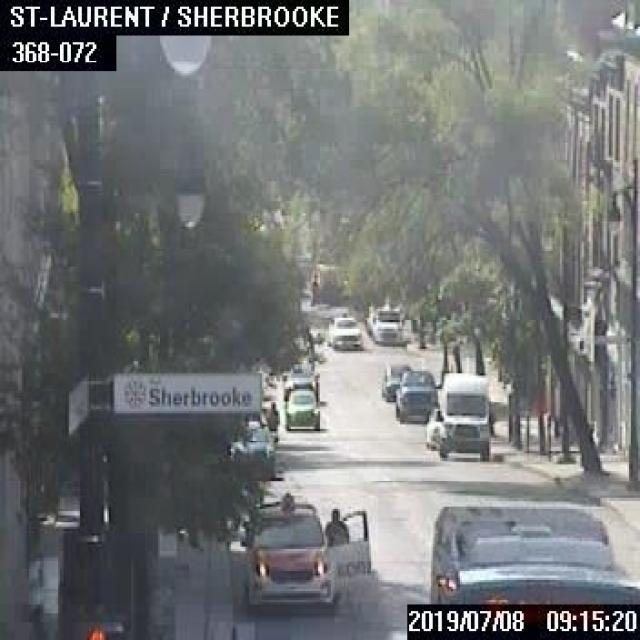pedestrian: (324, 502, 349, 542), (264, 400, 278, 447)
vehicle: (430, 506, 638, 602), (244, 491, 368, 605), (433, 372, 491, 460), (227, 418, 275, 478), (394, 369, 440, 423), (282, 373, 318, 427), (371, 306, 403, 342), (380, 363, 411, 399), (326, 315, 361, 346), (424, 407, 439, 448)
